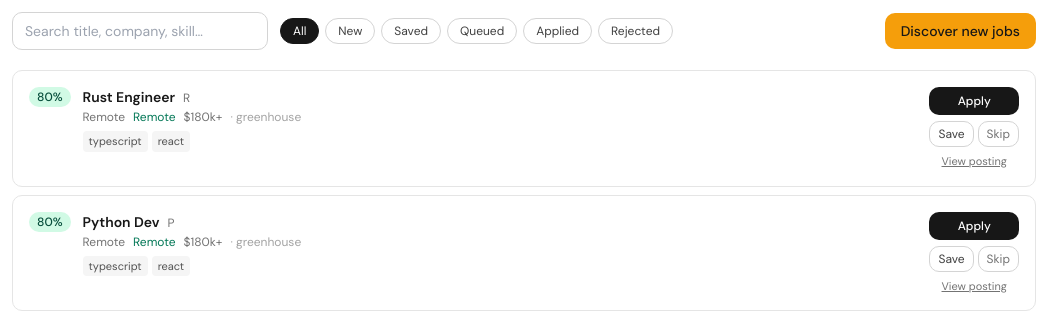
Test case: JobsList › filters by search query
The width and height of the screenshot is (1048, 328).
Expected: the heading "Rust Engineer" is shown, left=82, top=87, right=175, bottom=107
Type "rust" into the field named "Search jobs".
click(140, 31); type("rust")  # box left=12, top=12, right=268, bottom=50
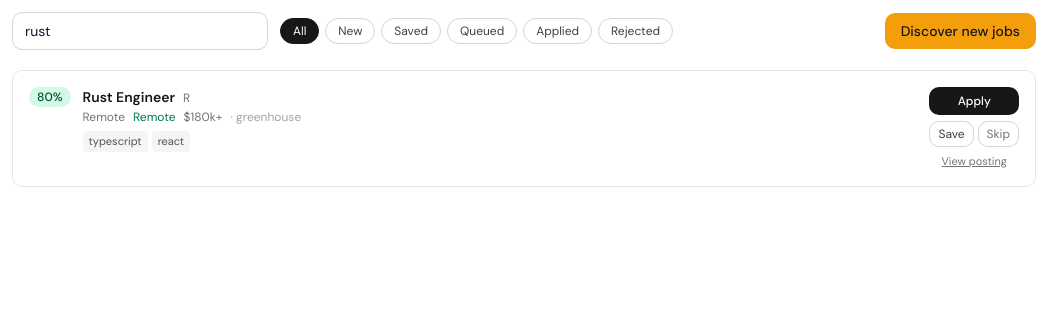
Expected: the heading "Rust Engineer" is shown, left=82, top=87, right=175, bottom=107
Result: the heading "Python Dev" is gone
